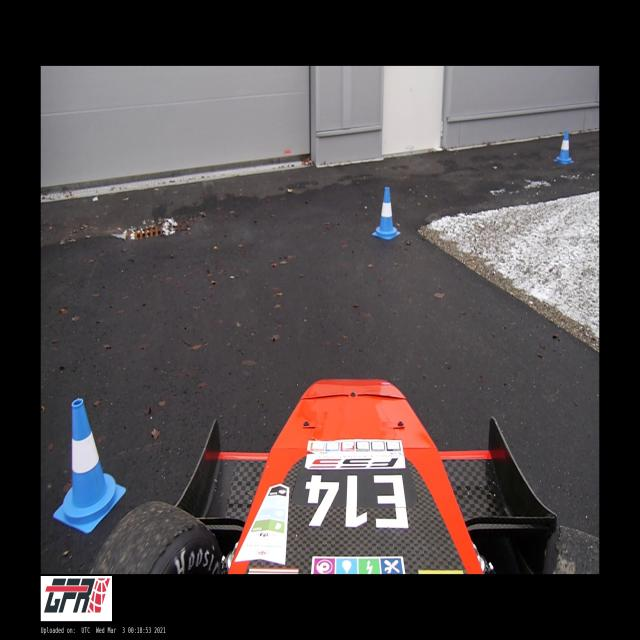blue_cone: (53, 399, 126, 533), (372, 187, 400, 240), (554, 131, 574, 164)
